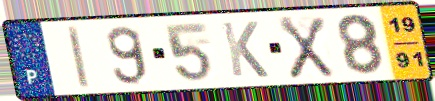5: (161, 20, 217, 84)
8: (335, 12, 385, 77)
9: (105, 24, 149, 86)
I: (64, 24, 93, 91)
K: (218, 19, 271, 79)
X: (275, 15, 336, 81)
